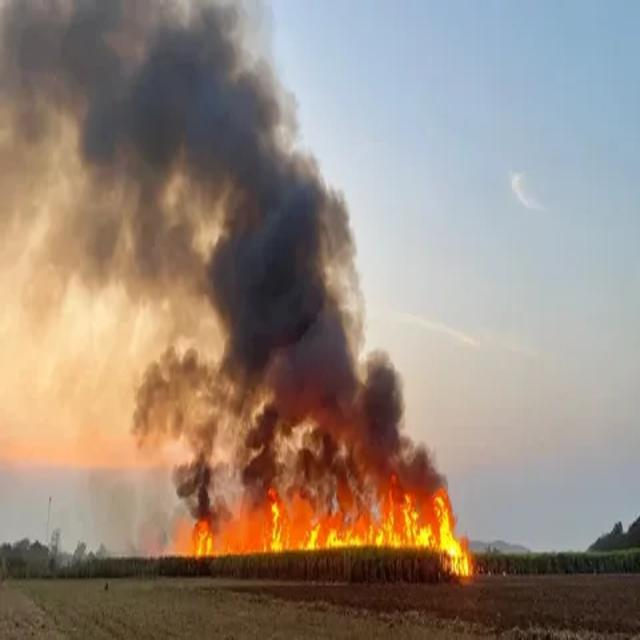Smoke: (132, 0, 446, 514)
